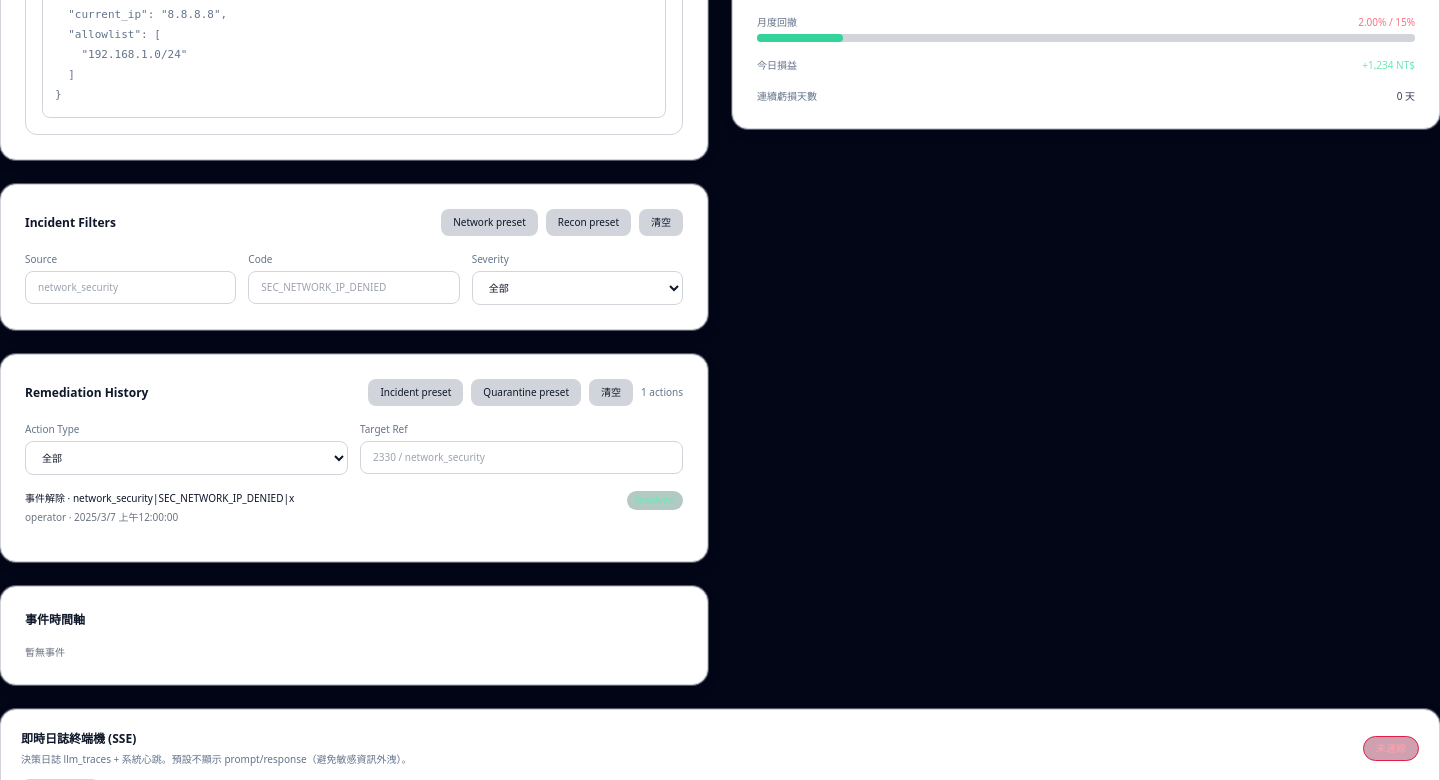
Test: SystemPage › applies remediation preset shortcuts
(page scrolled)
Click the button "Incident preset" at (416, 392), box [368,379,463,406]
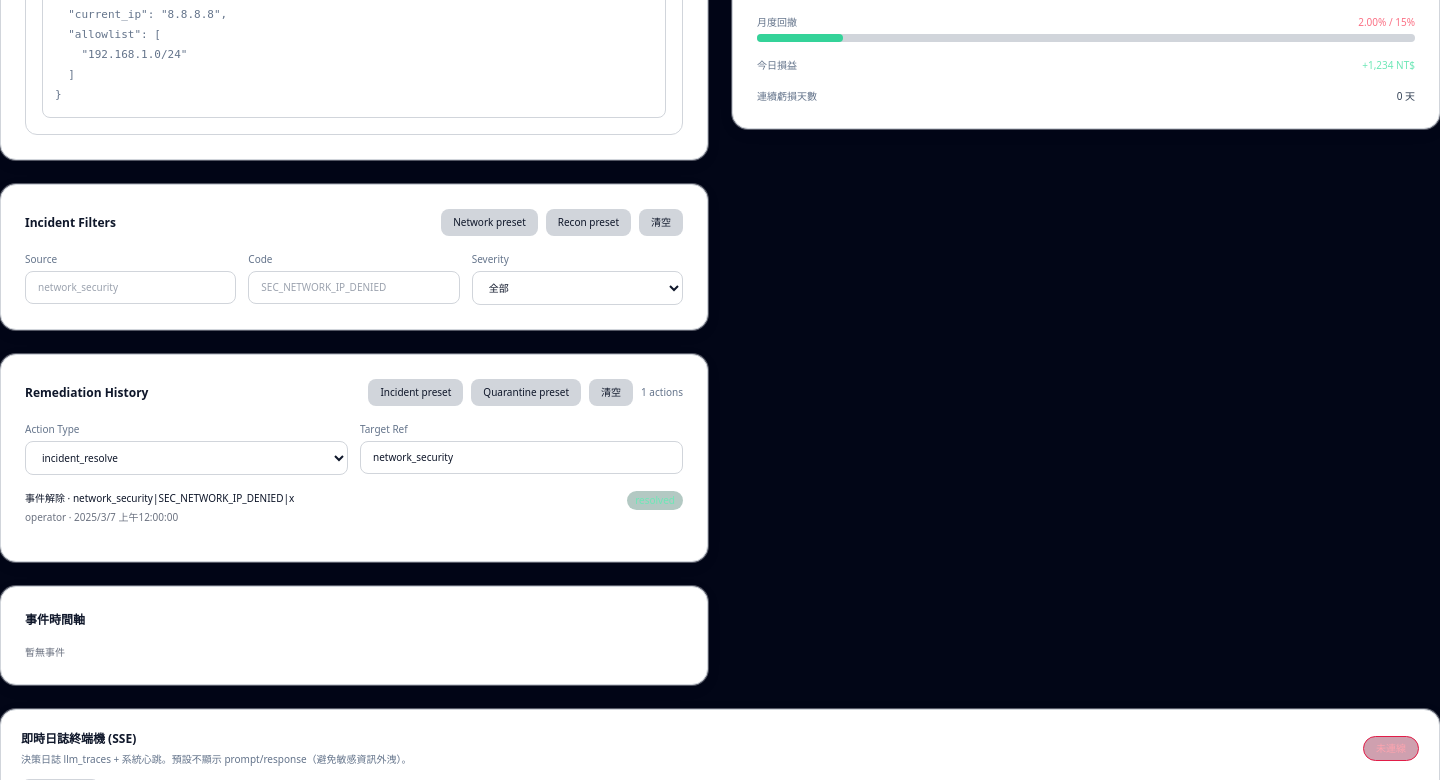
Now the dropdown labelled "Action Type" shows "incident_resolve", box [25,441,348,475]
Now the field with placeholder "2330 / network_security" holds "network_security", box [360,441,683,474]
